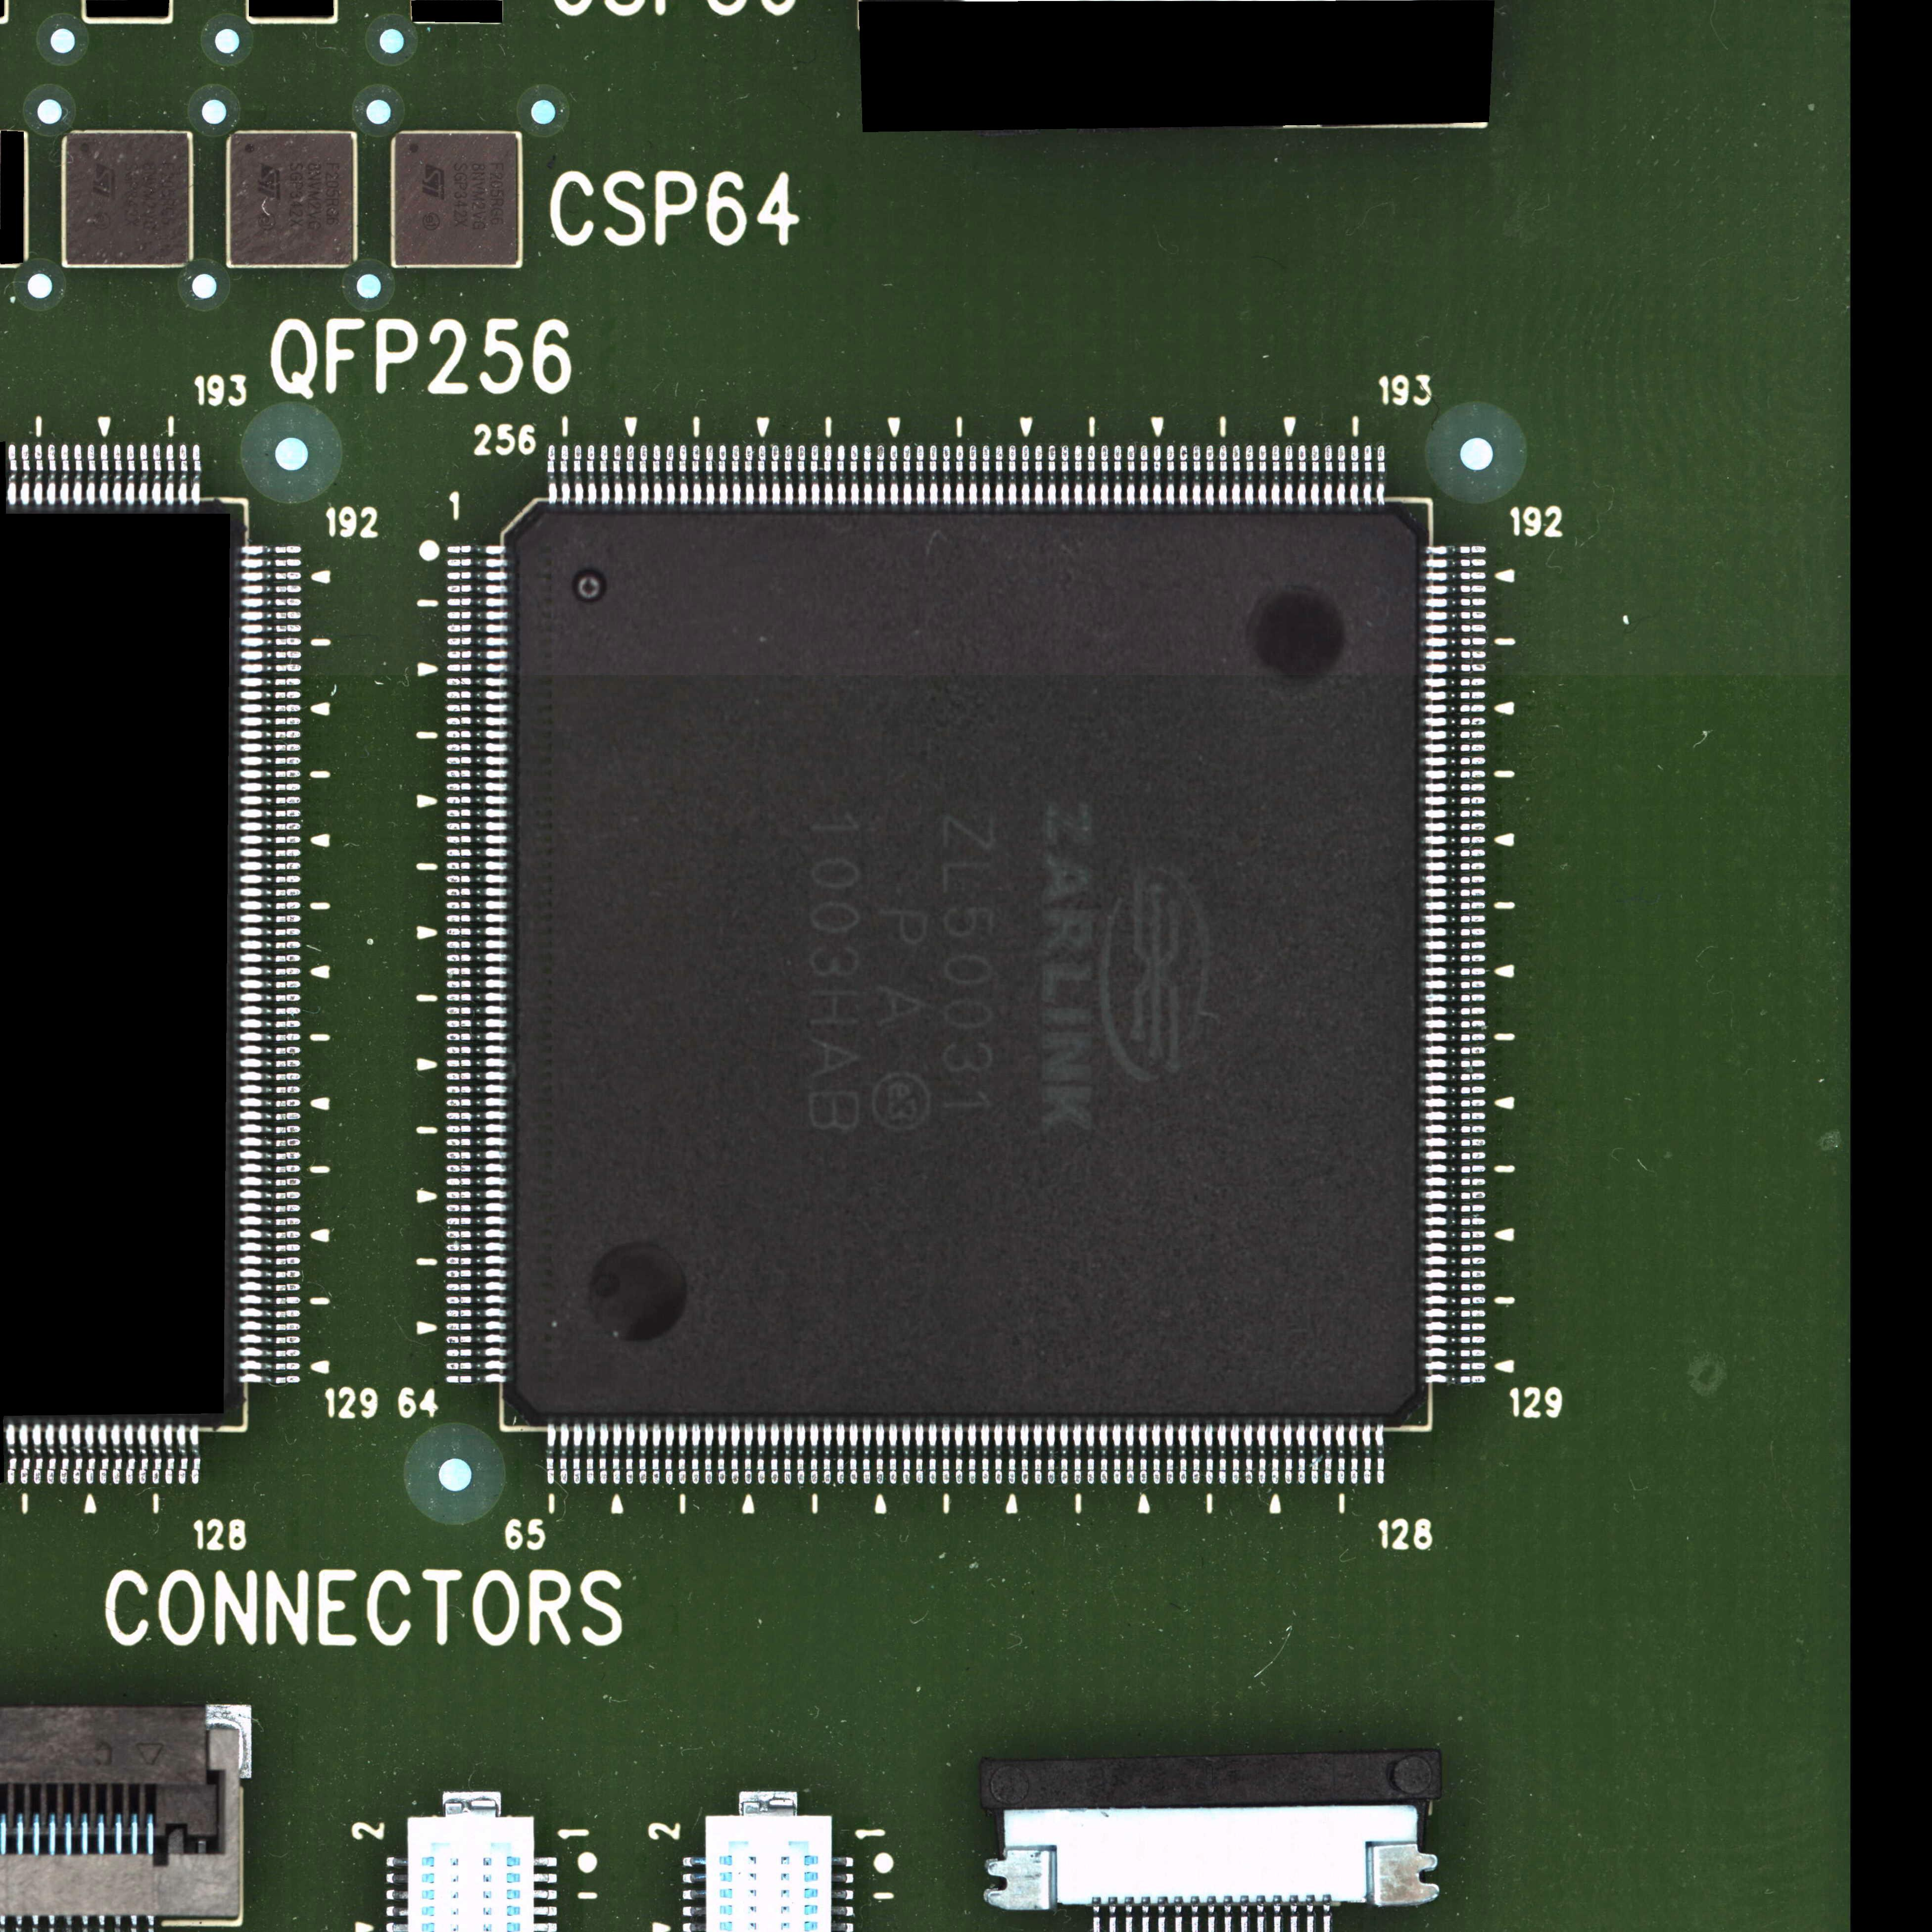Package: (510, 506, 1422, 1421), (65, 133, 189, 265), (230, 133, 354, 264), (395, 133, 517, 265)
Solder: (1424, 794, 1490, 807), (1422, 821, 1488, 833), (1424, 1005, 1488, 1017), (1424, 899, 1488, 911), (5, 442, 18, 506), (19, 442, 32, 506), (5, 1422, 18, 1486), (19, 1422, 32, 1486), (239, 557, 303, 570), (444, 1346, 508, 1359), (1424, 1281, 1486, 1293), (1424, 1293, 1486, 1306), (1424, 1346, 1486, 1359), (1424, 1201, 1486, 1214), (1424, 1097, 1486, 1109), (1424, 978, 1486, 991), (241, 543, 303, 556), (241, 596, 303, 609), (241, 662, 303, 674), (241, 741, 303, 754), (241, 768, 303, 780), (241, 794, 303, 807), (241, 821, 303, 833), (241, 939, 303, 952), (241, 913, 303, 925), (241, 874, 303, 886), (239, 952, 301, 964), (241, 1044, 303, 1056), (239, 1017, 301, 1030), (239, 1005, 301, 1017), (239, 978, 301, 991), (239, 966, 301, 978), (241, 1122, 303, 1134), (239, 1267, 301, 1279), (239, 1201, 301, 1214), (239, 1175, 301, 1187), (239, 1320, 301, 1332), (446, 543, 508, 556), (446, 557, 508, 570), (446, 649, 508, 662), (446, 662, 508, 674), (446, 741, 508, 754), (446, 913, 508, 925), (446, 901, 508, 913), (446, 862, 508, 874), (446, 847, 508, 860), (444, 966, 506, 978), (444, 1293, 506, 1306), (444, 1201, 506, 1214), (444, 1175, 506, 1187), (444, 1162, 506, 1175), (444, 1359, 506, 1371), (612, 446, 625, 506), (586, 446, 598, 506), (1424, 1254, 1484, 1267), (241, 755, 301, 768), (241, 809, 301, 821), (241, 862, 301, 874), (446, 755, 506, 768), (446, 809, 506, 821), (446, 1017, 506, 1030), (446, 1058, 506, 1070), (446, 1109, 506, 1122), (941, 1421, 952, 1488), (1422, 993, 1488, 1003), (1422, 809, 1488, 819), (1422, 847, 1488, 858), (1424, 1242, 1488, 1253), (1424, 1177, 1488, 1187), (1422, 1162, 1486, 1173), (1424, 1123, 1488, 1134), (1424, 954, 1488, 964), (1424, 584, 1488, 594), (1424, 610, 1488, 621), (1424, 637, 1488, 648), (1424, 649, 1488, 660), (1424, 690, 1488, 701), (1424, 717, 1488, 727), (1424, 741, 1488, 752), (1424, 782, 1488, 793), (1424, 862, 1488, 872), (1424, 874, 1488, 885), (1424, 886, 1488, 897), (34, 442, 44, 506), (87, 444, 97, 508), (126, 444, 136, 508), (165, 444, 175, 508), (152, 444, 163, 508), (191, 444, 202, 508), (34, 1422, 44, 1486), (46, 1422, 57, 1486), (165, 1424, 175, 1488), (239, 625, 303, 635), (810, 444, 821, 506), (561, 444, 571, 506), (547, 444, 557, 506), (1424, 1230, 1486, 1240), (1424, 1269, 1486, 1279), (1424, 1307, 1486, 1318), (1424, 1189, 1486, 1200), (1424, 1046, 1486, 1056), (1424, 1033, 1486, 1044), (1424, 1019, 1486, 1030), (1424, 966, 1486, 977), (1426, 545, 1488, 556), (1426, 571, 1488, 582), (1424, 729, 1486, 740), (1424, 835, 1486, 846), (1424, 927, 1486, 938), (1424, 913, 1486, 924), (46, 444, 57, 506), (60, 444, 71, 506), (73, 444, 83, 506), (99, 444, 110, 506), (111, 444, 122, 506), (138, 444, 149, 506), (58, 1424, 69, 1486), (85, 1424, 96, 1486), (73, 1424, 83, 1486), (126, 1424, 136, 1486), (99, 1424, 110, 1486), (111, 1424, 122, 1486), (150, 1424, 161, 1486), (138, 1424, 149, 1486), (191, 1424, 202, 1486), (177, 1424, 188, 1486), (241, 571, 303, 582), (241, 584, 303, 594), (241, 610, 303, 621), (241, 649, 303, 660), (241, 678, 303, 688), (241, 702, 303, 713), (239, 717, 301, 727), (239, 729, 301, 740), (241, 782, 303, 793), (241, 835, 303, 846), (241, 927, 303, 938), (241, 901, 303, 911), (241, 888, 303, 899), (241, 847, 303, 858), (239, 1031, 301, 1042), (239, 993, 301, 1003), (239, 1058, 301, 1069), (241, 1136, 303, 1146), (241, 1097, 303, 1108), (241, 1085, 303, 1095), (239, 1070, 301, 1081), (239, 1293, 301, 1304), (239, 1281, 301, 1292), (239, 1254, 301, 1265), (239, 1242, 301, 1253), (239, 1228, 301, 1238), (239, 1215, 301, 1226), (239, 1189, 301, 1200), (239, 1162, 301, 1173), (239, 1150, 301, 1161), (239, 1307, 301, 1318), (239, 1334, 301, 1345), (239, 1373, 301, 1384), (239, 1359, 301, 1369), (239, 1346, 301, 1357), (446, 571, 508, 582), (446, 584, 508, 594), (446, 610, 508, 621), (446, 598, 508, 609), (446, 625, 508, 635), (446, 637, 508, 648), (446, 678, 508, 688), (446, 702, 508, 713), (446, 729, 508, 740), (446, 770, 508, 780), (446, 782, 508, 793), (446, 796, 508, 807), (446, 823, 508, 833), (446, 835, 508, 846), (446, 941, 508, 952), (446, 927, 508, 938), (446, 888, 508, 899), (446, 876, 508, 886), (444, 954, 506, 964), (446, 1046, 508, 1056), (446, 1031, 508, 1042), (446, 1007, 508, 1017), (446, 993, 508, 1003), (444, 980, 506, 991), (446, 1136, 508, 1146), (446, 1123, 508, 1134), (446, 1097, 508, 1108), (446, 1085, 508, 1095), (446, 1070, 508, 1081), (444, 1281, 506, 1292), (444, 1269, 506, 1279), (444, 1254, 506, 1265), (444, 1242, 506, 1253), (444, 1228, 506, 1238), (444, 1215, 506, 1226), (444, 1189, 506, 1200), (444, 1150, 506, 1161), (444, 1307, 506, 1318), (444, 1320, 506, 1330), (446, 1334, 508, 1345), (446, 1373, 508, 1384), (639, 446, 649, 506), (626, 444, 637, 504), (600, 446, 610, 506), (573, 446, 584, 506), (241, 637, 301, 648), (241, 690, 301, 701), (241, 1109, 301, 1120), (446, 690, 506, 701), (446, 717, 506, 727), (994, 1419, 1003, 1484), (1007, 1421, 1016, 1486), (929, 1421, 938, 1486), (915, 1421, 924, 1486), (1424, 678, 1490, 686), (1424, 1322, 1488, 1330), (1422, 1150, 1486, 1159), (1424, 1111, 1488, 1120), (1424, 1085, 1488, 1093), (1424, 1072, 1488, 1081), (1424, 598, 1488, 607), (1424, 625, 1488, 633), (1424, 663, 1488, 672), (1424, 770, 1488, 778), (1311, 444, 1320, 506), (1272, 444, 1281, 506), (1008, 444, 1017, 506), (1021, 444, 1030, 506), (1154, 444, 1162, 506), (1166, 444, 1175, 506), (784, 444, 793, 506), (771, 444, 780, 506), (745, 444, 754, 506), (587, 1422, 596, 1484), (626, 1422, 635, 1484), (704, 1422, 713, 1484), (771, 1422, 780, 1484), (824, 1422, 833, 1484), (837, 1421, 846, 1483), (863, 1421, 872, 1483), (878, 1421, 886, 1483), (1060, 1422, 1069, 1484), (1099, 1422, 1108, 1484), (1177, 1422, 1185, 1484), (1244, 1422, 1253, 1484), (1297, 1422, 1306, 1484), (1309, 1421, 1318, 1483), (1336, 1421, 1345, 1483), (1424, 1217, 1486, 1226), (1424, 1334, 1486, 1343), (1424, 1361, 1486, 1369), (1424, 1375, 1486, 1384), (1424, 1138, 1486, 1146), (1424, 1058, 1486, 1067), (1426, 559, 1488, 568), (1424, 704, 1486, 713), (1424, 757, 1486, 766), (179, 444, 188, 506), (1376, 444, 1385, 504), (1338, 446, 1346, 506), (1284, 446, 1293, 506), (1233, 446, 1242, 506), (1219, 444, 1228, 504), (1180, 446, 1189, 506), (982, 444, 991, 504), (994, 444, 1003, 504), (1047, 446, 1056, 506), (1074, 446, 1083, 506), (1086, 446, 1095, 506), (1100, 446, 1109, 506), (1113, 446, 1122, 506), (1127, 446, 1136, 506), (1139, 446, 1148, 506), (955, 444, 964, 504), (916, 446, 925, 506), (890, 444, 899, 504), (863, 444, 872, 504), (837, 446, 846, 506), (798, 444, 807, 504), (731, 446, 740, 506), (718, 446, 727, 506), (692, 446, 701, 506), (665, 446, 674, 506), (653, 446, 662, 506), (548, 1422, 557, 1483), (718, 1422, 727, 1483), (614, 1424, 623, 1484), (639, 1422, 648, 1483), (665, 1422, 674, 1483), (678, 1422, 686, 1483), (692, 1422, 701, 1483), (731, 1422, 740, 1483), (757, 1421, 766, 1481), (798, 1421, 807, 1481), (1021, 1422, 1030, 1483), (1072, 1424, 1081, 1484), (1086, 1424, 1095, 1484), (1111, 1422, 1120, 1483), (1138, 1422, 1146, 1483), (1150, 1422, 1159, 1483), (1164, 1422, 1173, 1483), (1191, 1422, 1200, 1483), (1203, 1422, 1212, 1483), (1230, 1421, 1238, 1481), (1270, 1421, 1279, 1481), (1424, 941, 1484, 950), (982, 1419, 989, 1484), (902, 1421, 909, 1484), (955, 1421, 962, 1484), (1364, 444, 1371, 506), (1352, 444, 1359, 506), (1299, 444, 1306, 506), (1207, 444, 1214, 506), (1194, 444, 1201, 506), (1035, 444, 1042, 506), (943, 444, 950, 506), (904, 444, 911, 506), (824, 444, 832, 506), (706, 446, 713, 508), (653, 1422, 660, 1484), (970, 1421, 977, 1483), (812, 1421, 819, 1483), (851, 1422, 858, 1484), (1125, 1422, 1132, 1484), (1284, 1421, 1292, 1483), (1323, 1422, 1330, 1484), (1350, 1421, 1357, 1483), (1362, 1421, 1369, 1483), (1376, 1421, 1384, 1483), (1325, 444, 1332, 504), (1260, 446, 1267, 506), (1247, 446, 1254, 506), (970, 444, 977, 504), (1062, 446, 1069, 506), (931, 444, 938, 504), (878, 444, 885, 504), (851, 444, 858, 504), (759, 446, 766, 506), (679, 446, 686, 506), (563, 1422, 570, 1483), (575, 1424, 582, 1484), (602, 1424, 609, 1484), (745, 1422, 752, 1483), (786, 1422, 793, 1483), (1035, 1422, 1042, 1483), (1047, 1424, 1054, 1484), (1217, 1422, 1224, 1483), (1258, 1422, 1265, 1483), (892, 1421, 897, 1483)
